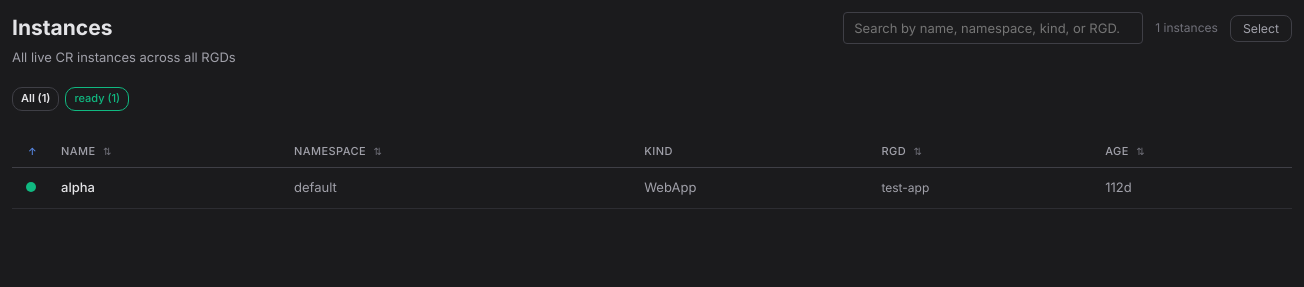
it: InstancesPage bulk operations (spec issue-536) › Export YAML button is disabled when nothing selected
What coordinates should you click on to do the following:
click the button with test id "instances-select-btn"
I would click on:
 (1261, 28)
Its box is [1230,14,1292,42].
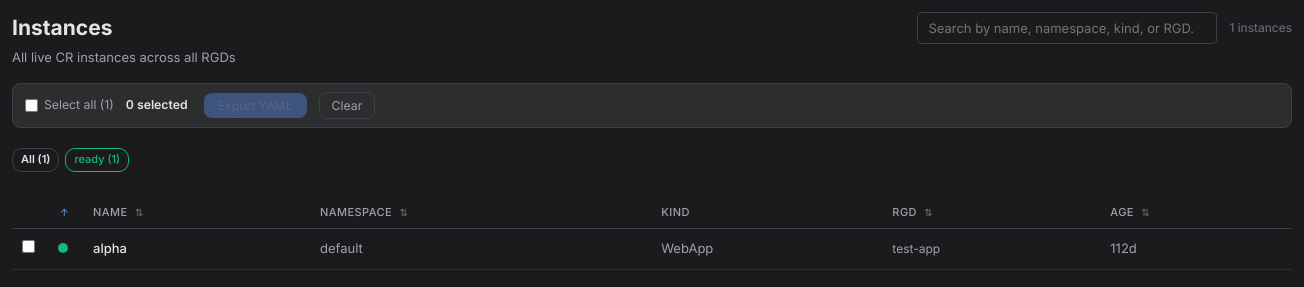
Check: the button with test id "instances-export-yaml" is disabled, box [204,93,307,118]
